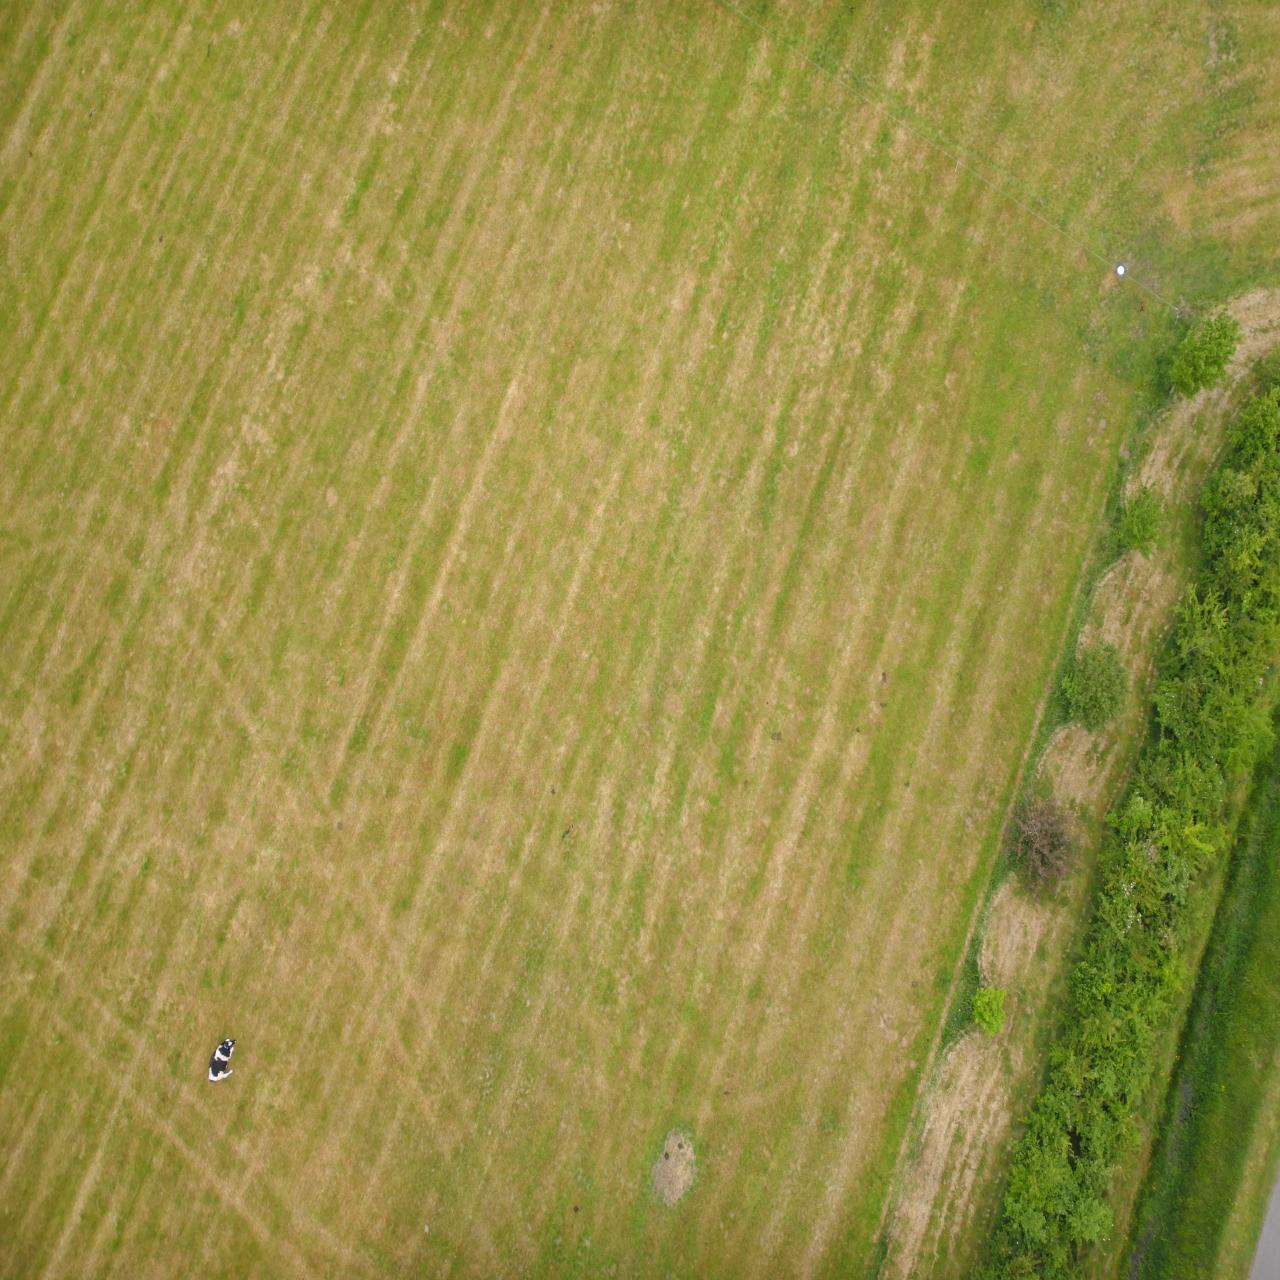cow: (1043, 197, 1071, 241)
